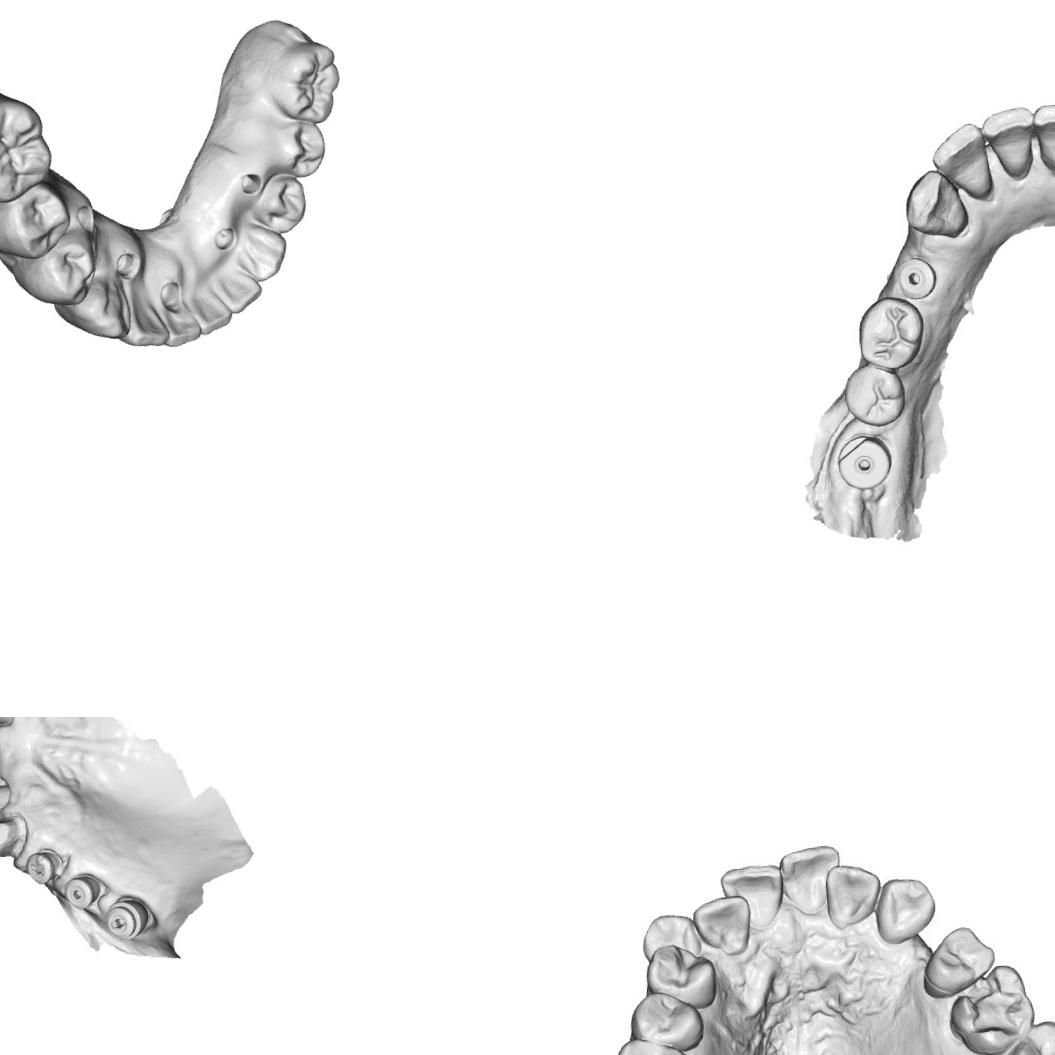canine: (900, 165, 976, 244), (870, 872, 939, 946), (638, 910, 705, 968), (72, 278, 130, 341), (234, 220, 288, 283)
crown: (0, 818, 27, 860)
implant: (834, 433, 893, 493), (892, 254, 936, 296), (62, 872, 104, 912)
implant_minus: (103, 896, 151, 942), (25, 850, 57, 886), (0, 781, 12, 816)
incisor: (928, 120, 994, 201), (776, 842, 844, 916), (718, 862, 788, 932), (981, 102, 1039, 181), (690, 893, 754, 960), (822, 861, 883, 931), (119, 286, 169, 352), (217, 266, 263, 312), (190, 288, 234, 336), (160, 297, 200, 349), (1030, 97, 1055, 175)
inlay: (956, 966, 1025, 1042)
molar: (260, 36, 344, 124), (0, 86, 57, 209), (854, 294, 926, 371), (838, 355, 910, 430), (991, 1017, 1055, 1055), (610, 1033, 705, 1055)
premolar: (917, 920, 1000, 1001), (27, 224, 102, 307), (640, 940, 720, 1013), (626, 987, 706, 1055), (0, 185, 70, 261), (264, 115, 330, 182), (249, 170, 308, 234)
